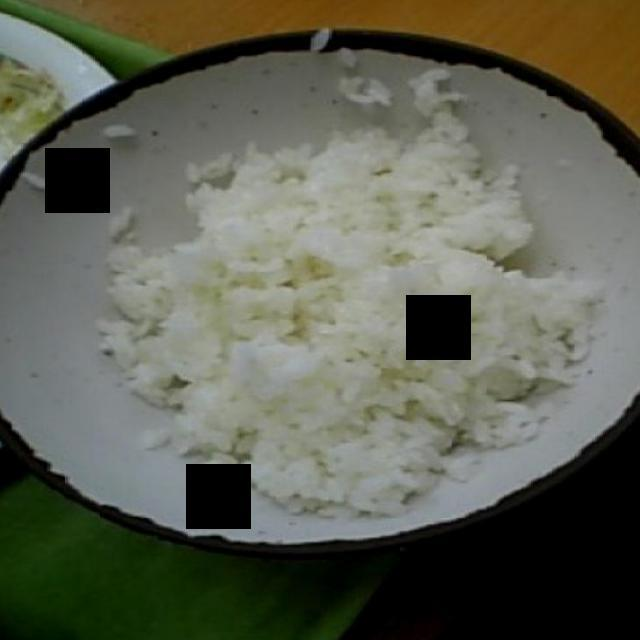rice: (93, 115, 593, 525)
